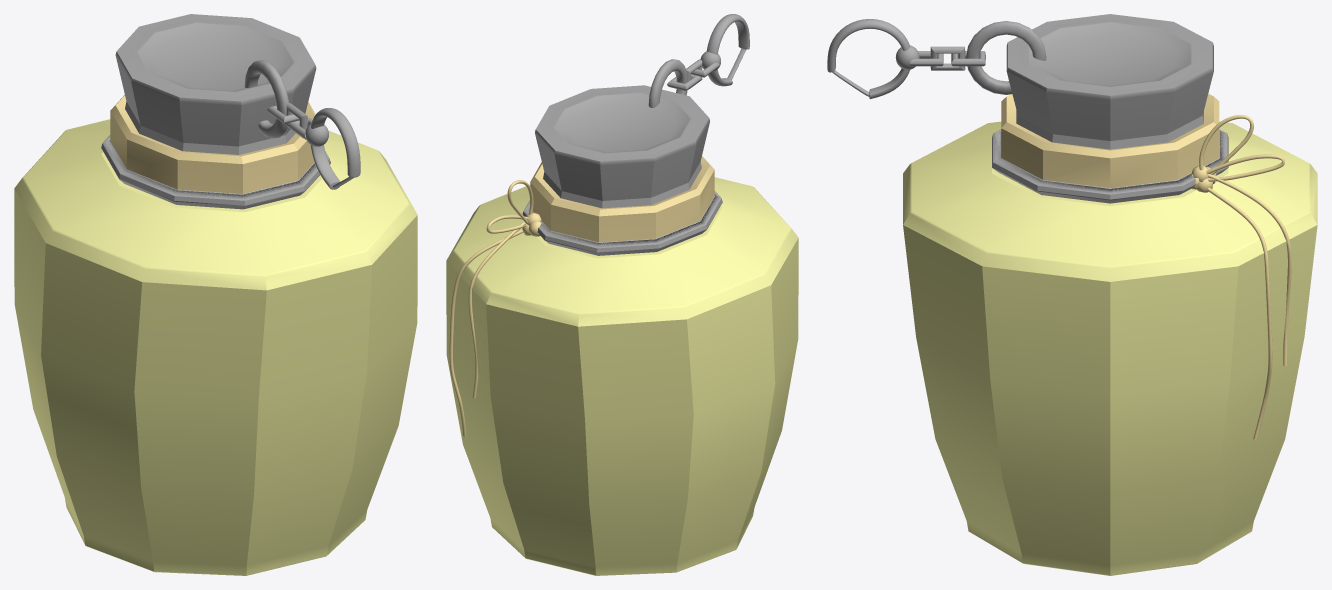
File: kirby.fbx
3 views of the same model, side by side, from view 1: azimuth 30°, elevation 25°; view 2: azimuth 150°, elevation 25°; view 3: azimuth 270°, elevation 25° (orthographic). The views are drawn at different scales.
Parts seen in each view (by area): view 1: Kirbyfinal; view 2: Kirbyfinal; view 3: Kirbyfinal.
Part boxes in pixels (<box>): Kirbyfinal: <box>14,14,417,575</box>; Kirbyfinal: <box>446,14,798,575</box>; Kirbyfinal: <box>827,14,1317,575</box>.
Bounding box in the file's own units: 9.52 × 12.8 × 11.54.
